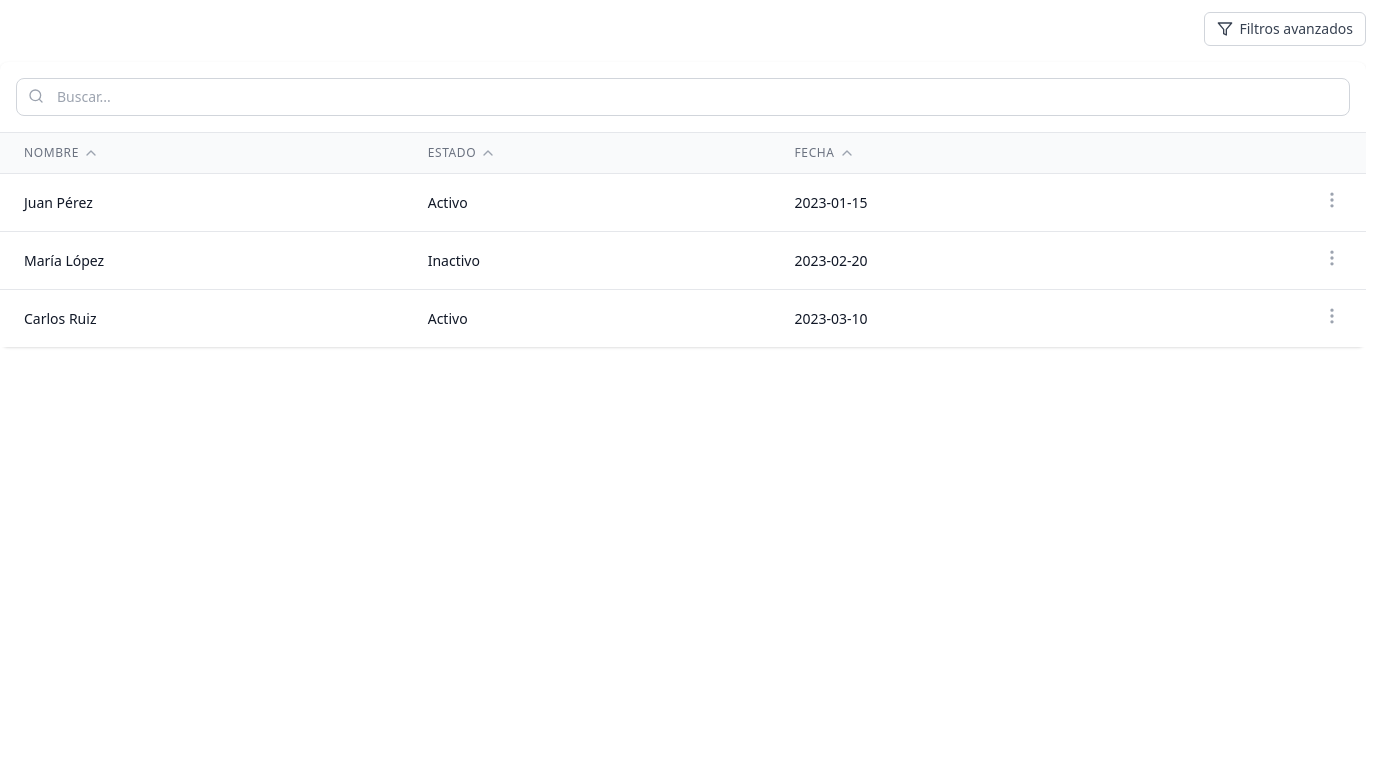
Test: FilterableTable Component › filters data by status when select filter is applied
Note: Hacer clic en el botón de filtros
Click the button "Filtros avanzados".
click(1285, 29)  # box [1204,12,1366,46]
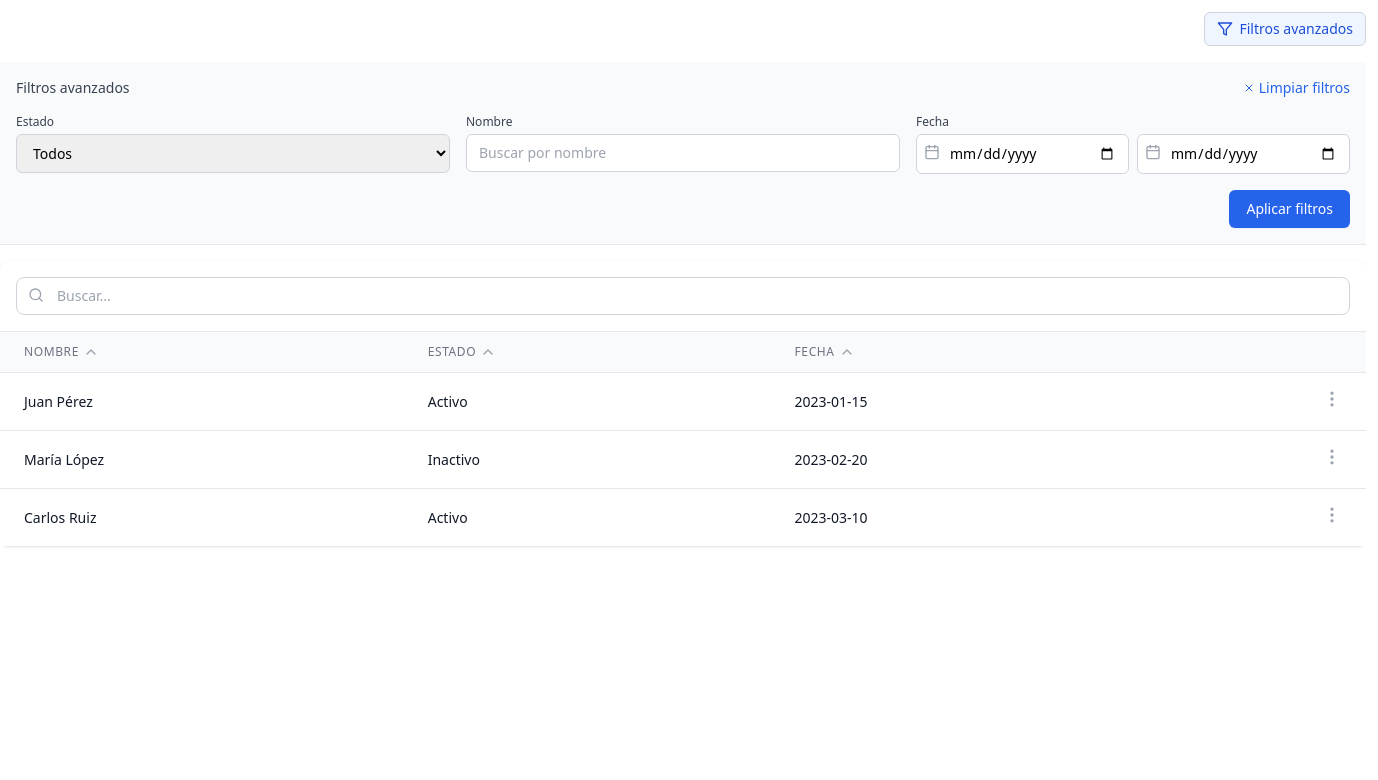
Note: Seleccionar el filtro de estado "Activo"
Select "Activo" in the dropdown labelled "Estado" at (233, 154), box [16,134,450,173]
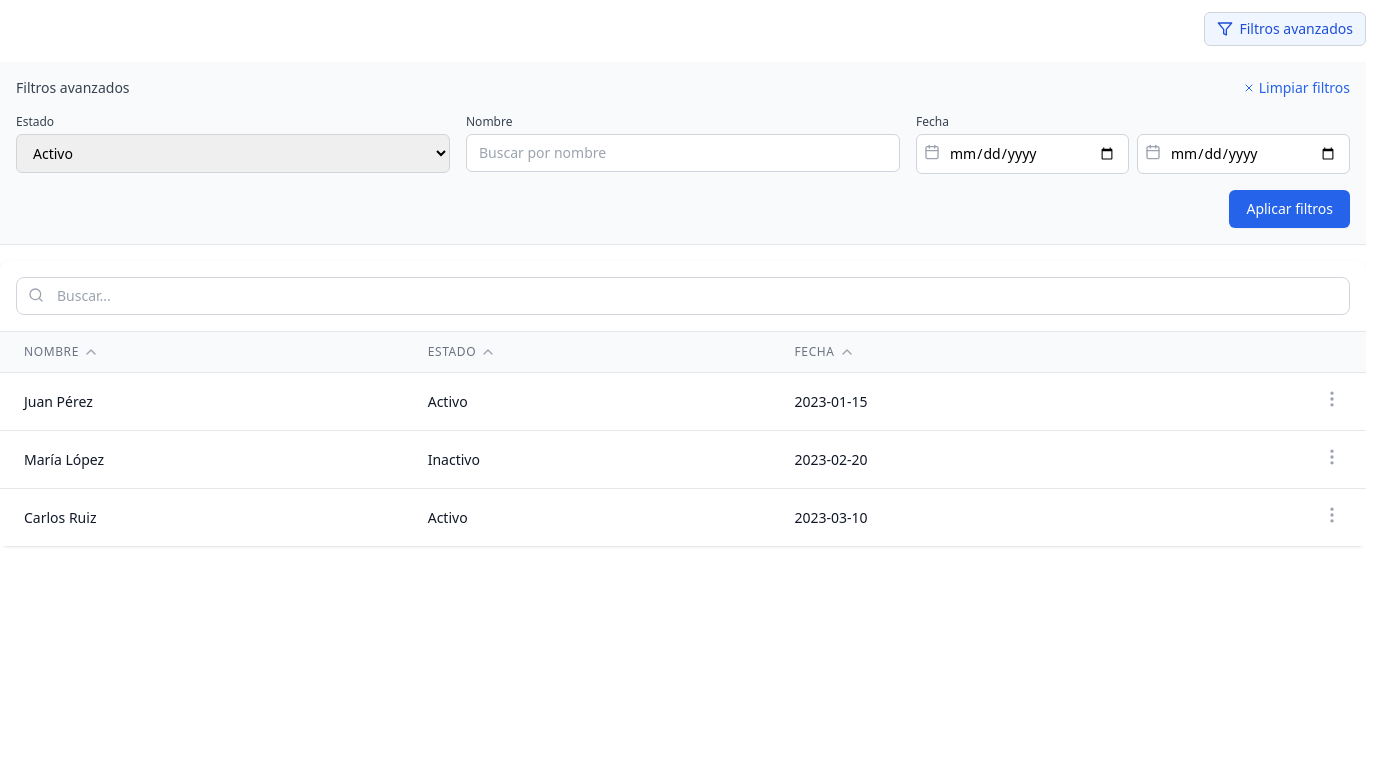
Note: Hacer clic en el botón para aplicar filtros
Click the button "Aplicar filtros".
click(1290, 209)  # box [1229,190,1350,228]
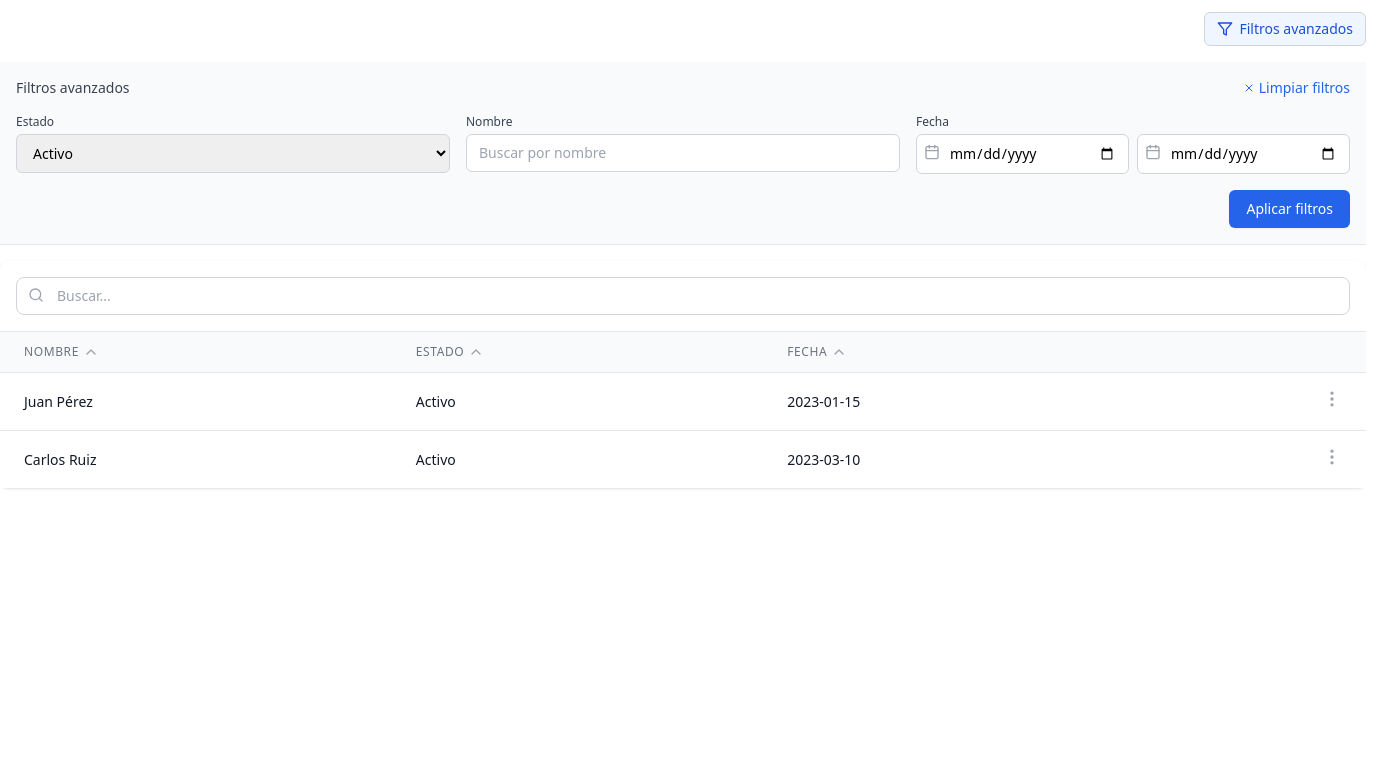
Check: the text "Juan Pérez" is shown, box [0,372,392,430]
Check: the text "María López" is gone
